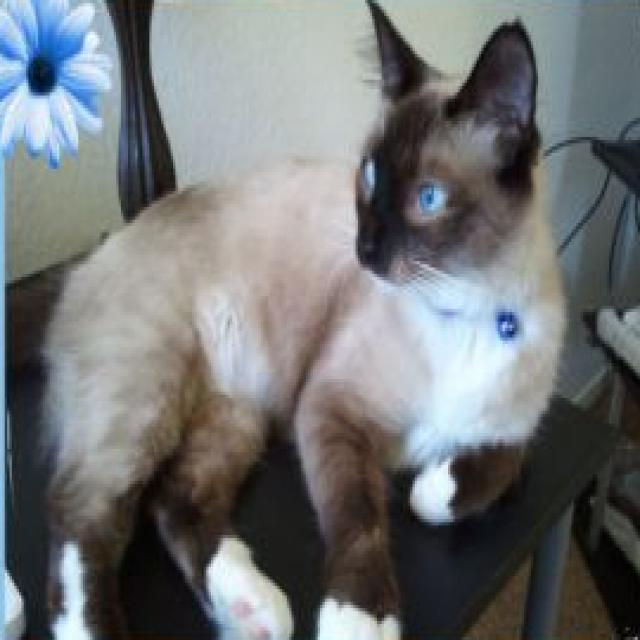Birman: (43, 0, 569, 640)
